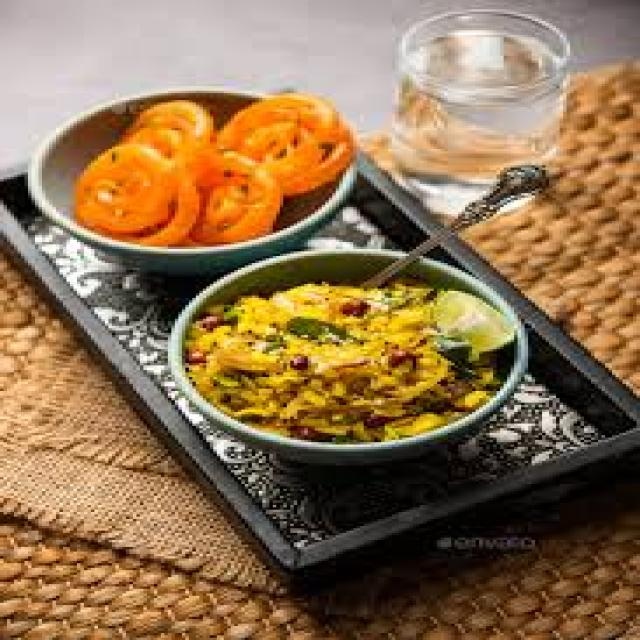POHA: (182, 287, 516, 444)
